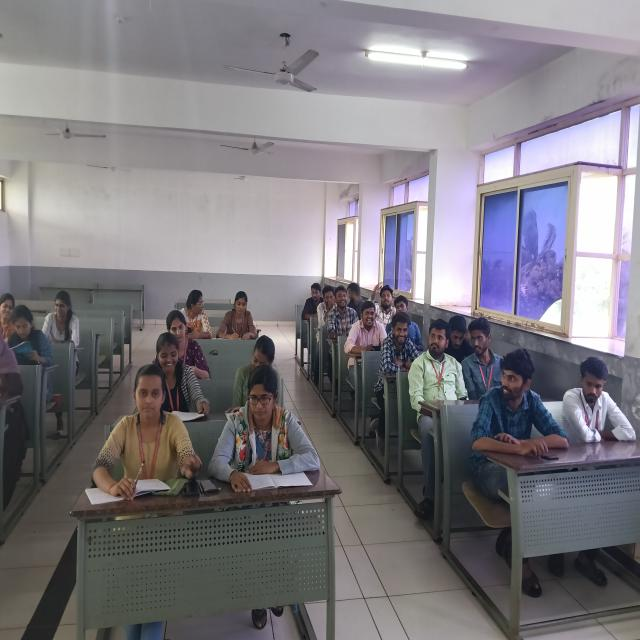Reading: (149, 329, 210, 422), (4, 302, 54, 381)
Using Phone: (406, 314, 472, 428), (344, 298, 388, 369), (176, 286, 214, 342)
Writing: (76, 362, 195, 507), (216, 287, 262, 343)
